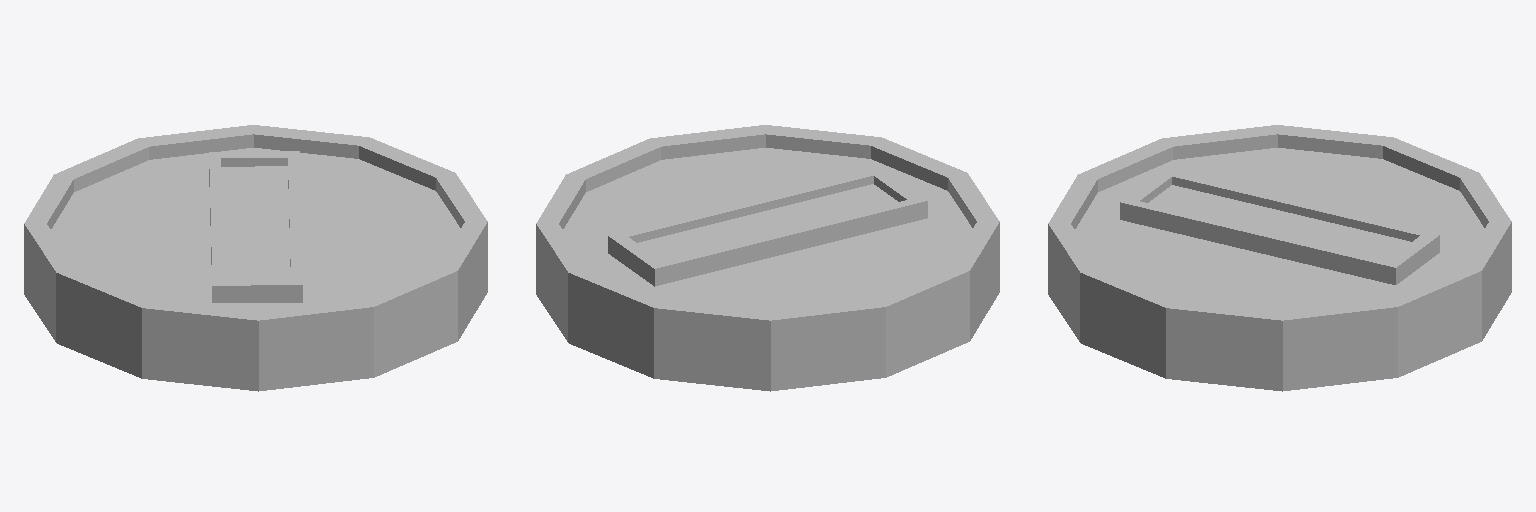
The model's file is Coin_Mat.obj.
3 views of the same model, side by side, from view 1: azimuth 30°, elevation 25°; view 2: azimuth 150°, elevation 25°; view 3: azimuth 270°, elevation 25° (orthographic).
Visible parts, largest first — view 1: Coin13 Coins Scene; view 2: Coin13 Coins Scene; view 3: Coin13 Coins Scene.
Boxes of the visible parts, x1,y1,x2,y2 form: Coin13 Coins Scene: [24, 125, 487, 391]; Coin13 Coins Scene: [536, 125, 999, 391]; Coin13 Coins Scene: [1048, 125, 1511, 391].
Size of the model in its own units: 0.6111 by 0.1092 by 0.6111.